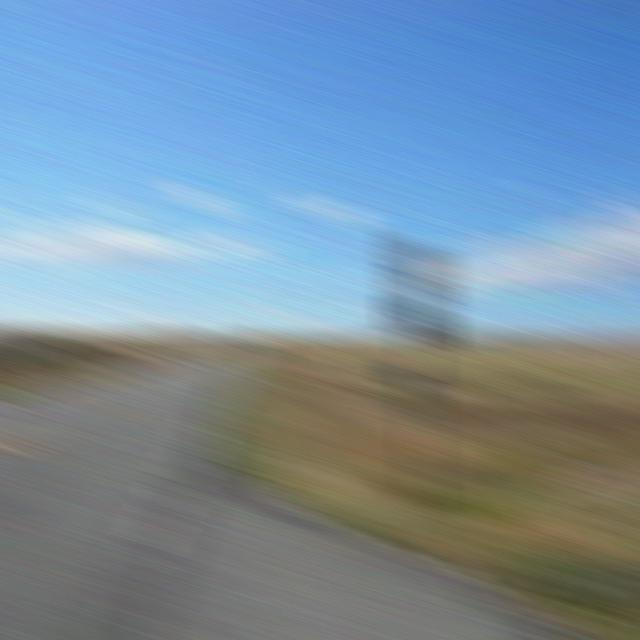speedLimit70: (388, 238, 447, 307)
